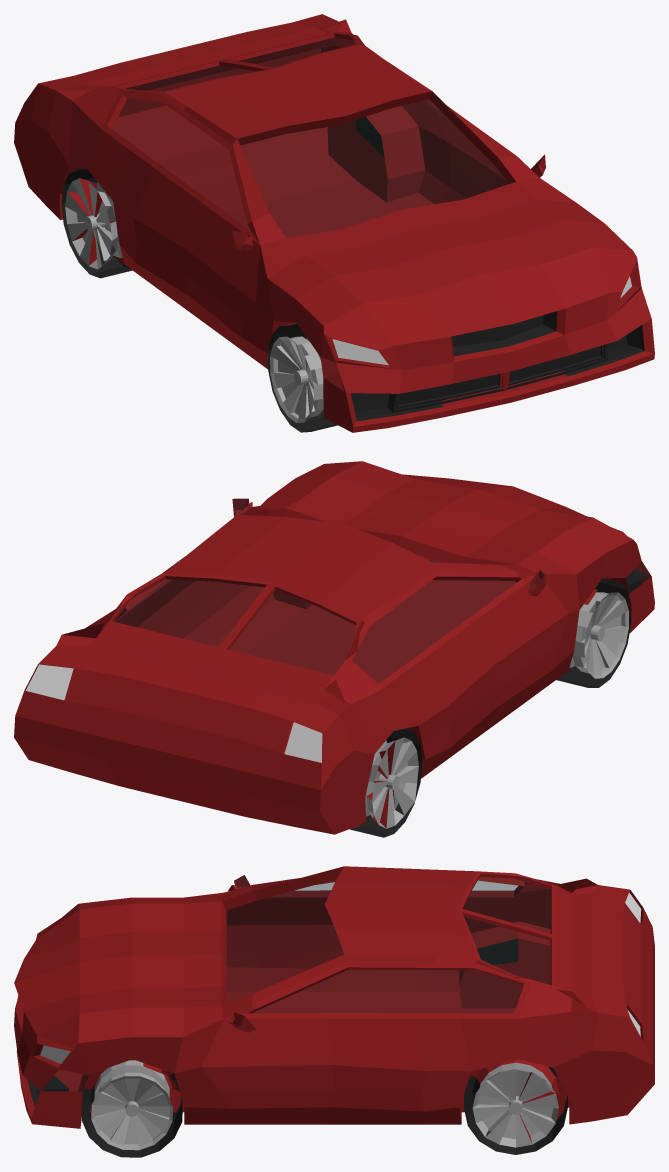
Rendered from baby Game car 3.fbx.
The picture shows the model from 3 angles, top to bottom: view 1: azimuth 30°, elevation 25°; view 2: azimuth 150°, elevation 25°; view 3: azimuth 270°, elevation 25°; orthographic projection. The views are drawn at different scales.
Visible parts, largest first — view 1: Body, Front Right Wheel, Rear Right Wheel; view 2: Body, Front Right Wheel, Rear Right Wheel, Rear Lamp, Mirror; view 3: Body, Rear Left Wheel, Front Left Wheel, Mirror.
Boxes of the visible parts, x1=… form: Body: x1=14, y1=14, x2=654, y2=432; Front Right Wheel: x1=268, y1=322, x2=337, y2=432; Rear Right Wheel: x1=61, y1=168, x2=132, y2=278; Body: x1=14, y1=461, x2=654, y2=834; Front Right Wheel: x1=556, y1=578, x2=631, y2=687; Rear Right Wheel: x1=350, y1=728, x2=422, y2=837; Rear Lamp: x1=25, y1=664, x2=322, y2=762; Mirror: x1=232, y1=498, x2=545, y2=596; Body: x1=14, y1=866, x2=654, y2=1128; Rear Left Wheel: x1=464, y1=1059, x2=567, y2=1154; Front Left Wheel: x1=81, y1=1060, x2=182, y2=1157; Mirror: x1=228, y1=875, x2=255, y2=1032.
Size of the model in its own units: 380 by 229 by 724.
